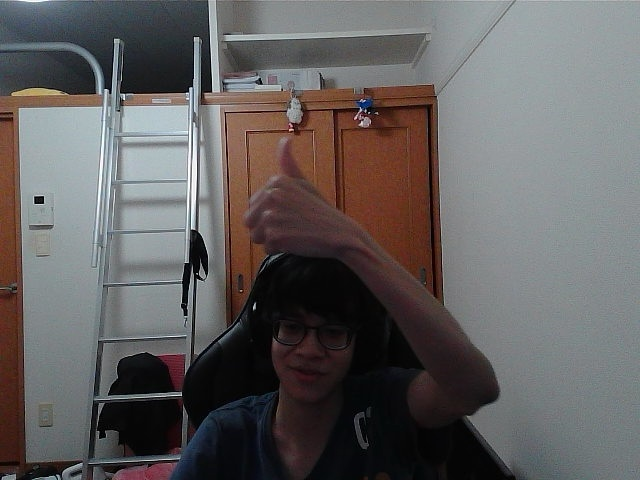thumb_up: (281, 319, 348, 397)
